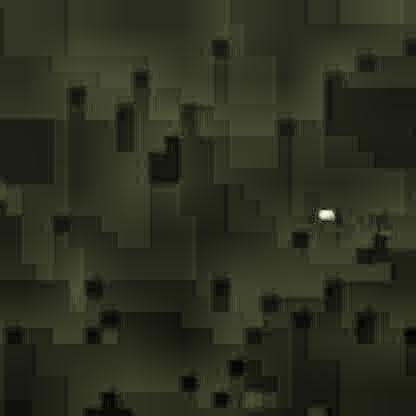golfball: (314, 206, 331, 220)
